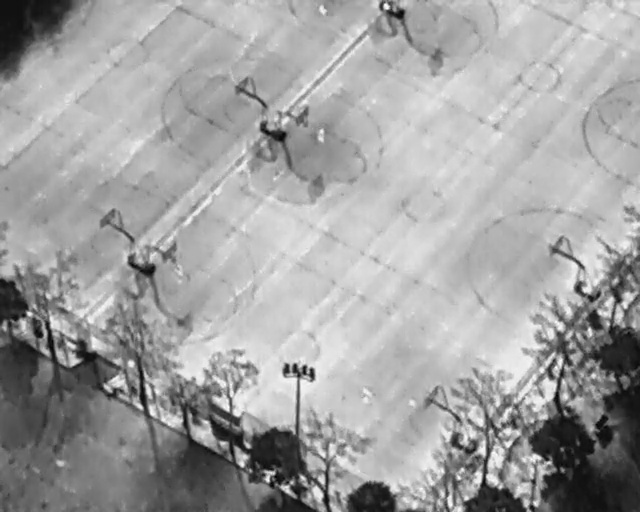Person: (362, 383, 373, 405), (317, 125, 325, 144), (317, 4, 328, 17), (407, 396, 418, 406)
